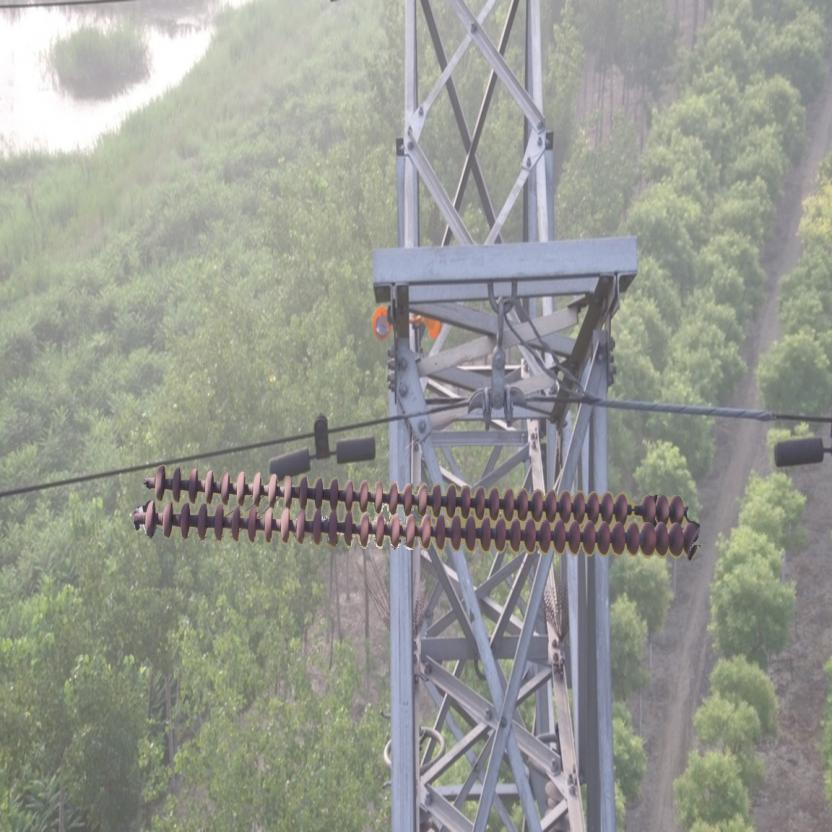defect: (613, 488, 657, 525)
